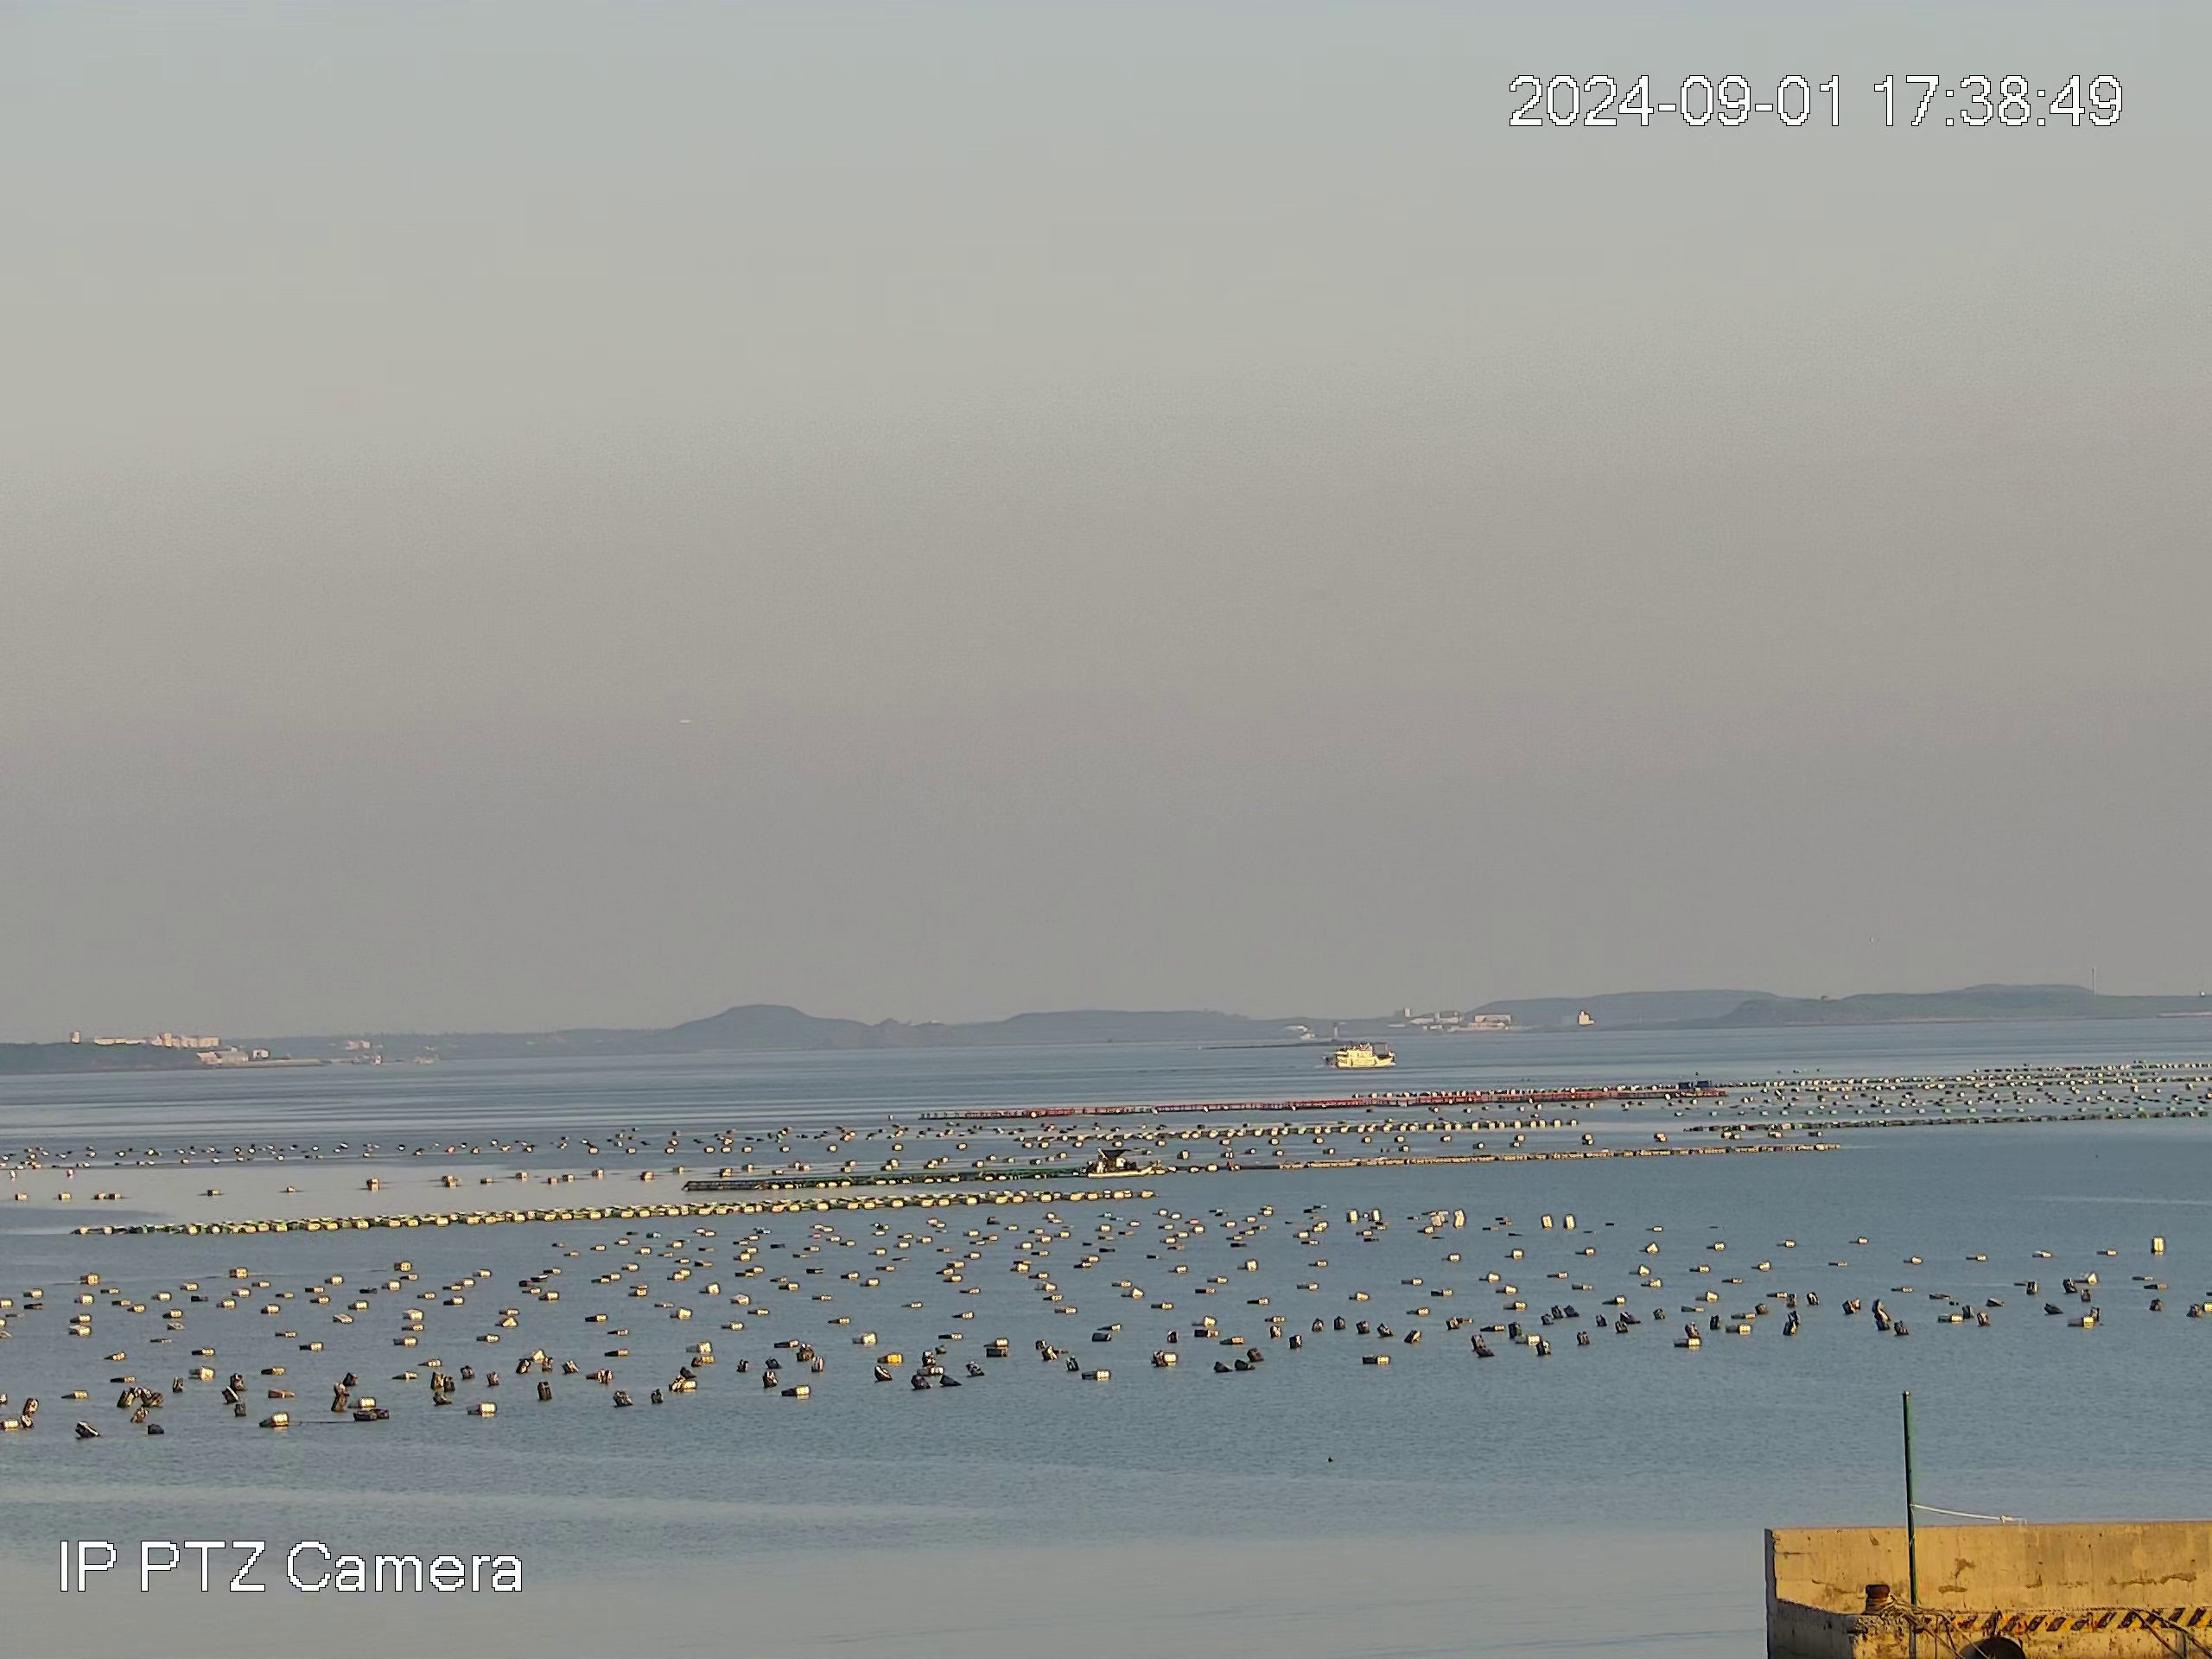boat: (1324, 1040, 1397, 1068), (1087, 1148, 1150, 1178)
